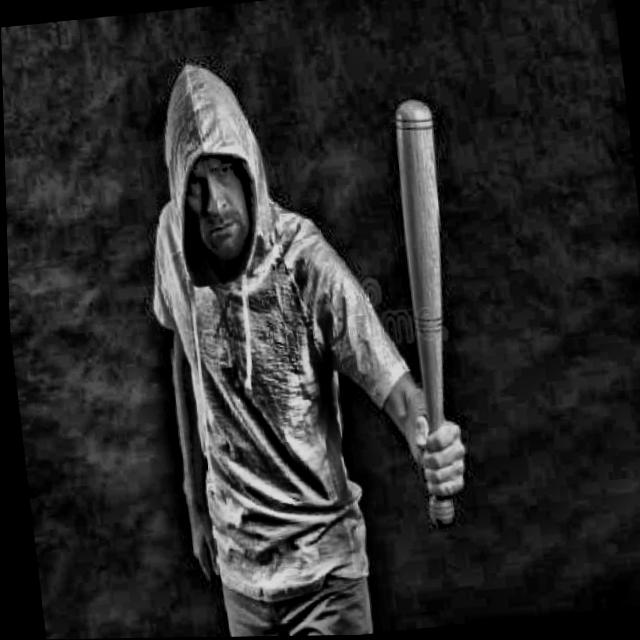tongkat pemukul: (359, 90, 492, 544)
